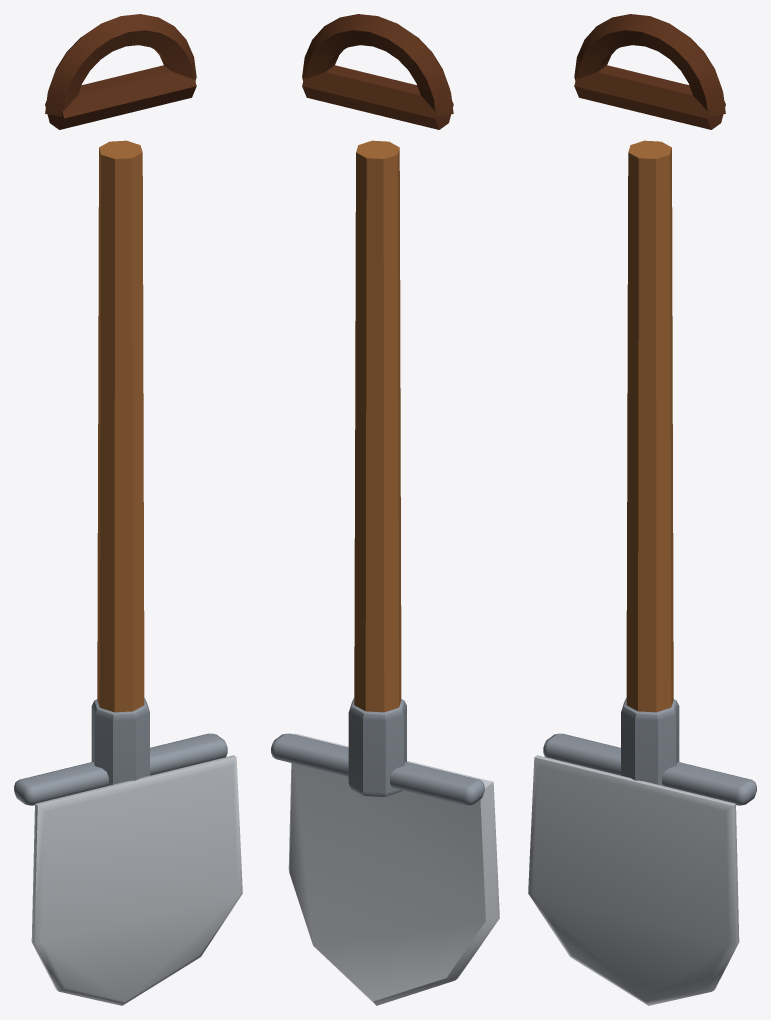
File: IronShovel.fbx
3 views of the same model, side by side, from view 1: azimuth 30°, elevation 25°; view 2: azimuth 150°, elevation 25°; view 3: azimuth 330°, elevation 25° (orthographic).
Parts seen in each view (by area): view 1: IronShovel; view 2: IronShovel; view 3: IronShovel.
Boxes of the visible parts, x1,y1,x2,y2 form: IronShovel: (14, 14, 242, 1005); IronShovel: (271, 14, 499, 1005); IronShovel: (528, 14, 756, 1005).
Size of the model in its own units: 0.88 by 3.99 by 0.2516.
Materials: 1 (1 with a texture image).
